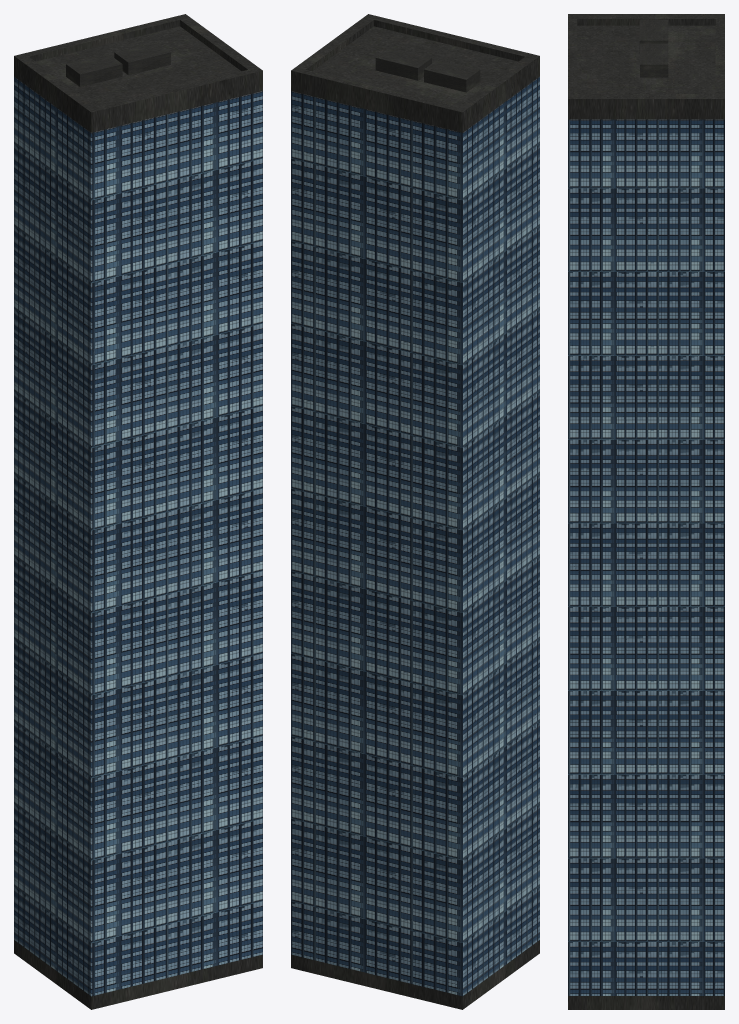
The model's file is skyscraper_new.glb.
The picture shows the model from 3 angles, left to right: view 1: azimuth 30°, elevation 25°; view 2: azimuth 150°, elevation 25°; view 3: azimuth 270°, elevation 25°; orthographic projection.
Parts seen in each view (by area): view 1: Cube.005; view 2: Cube.005; view 3: Cube.005.
Boxes of the visible parts, x1,y1,x2,y2 form: Cube.005: (14, 14, 262, 1009); Cube.005: (291, 14, 539, 1009); Cube.005: (568, 14, 724, 1009).
Size of the model in its own units: 17.1 by 86.05 by 13.35.
2 materials, 2 textured.
